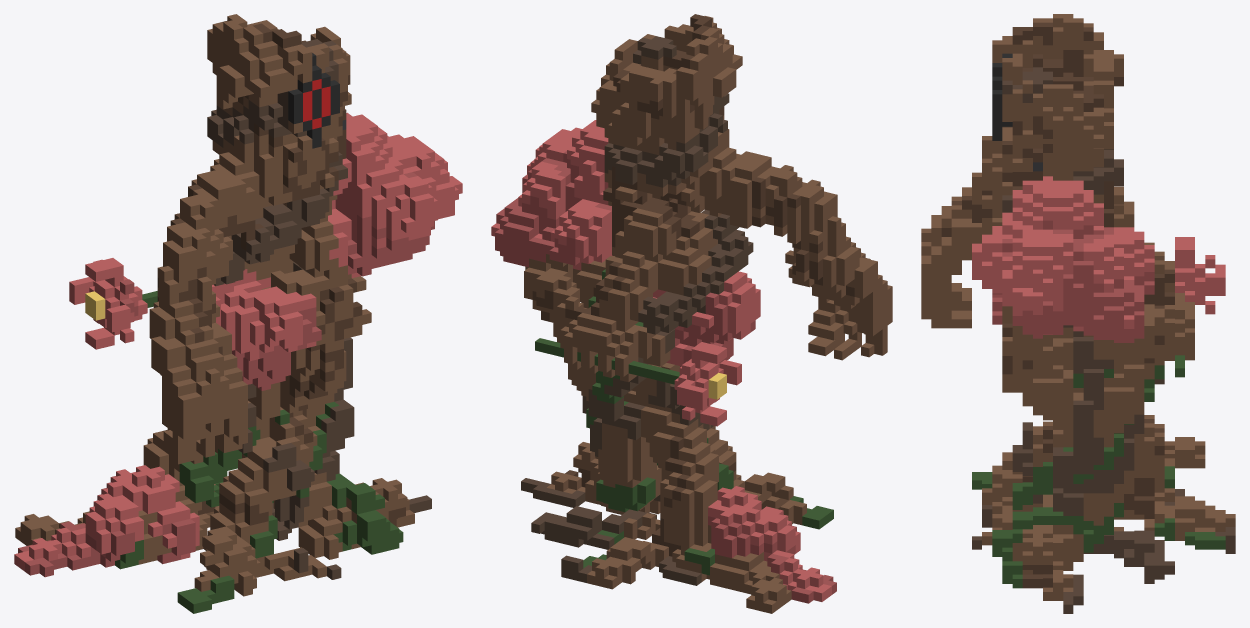
Rendered from boss-0-石头人.obj.
3 renders of one model, left to right at view 1: azimuth 30°, elevation 25°; view 2: azimuth 150°, elevation 25°; view 3: azimuth 270°, elevation 25°, orthographic. The views are drawn at different scales.
Visible parts, largest first — view 1: 石头人; view 2: 石头人; view 3: 石头人.
Boxes of the visible parts, x1=… form: 石头人: x1=14, y1=14, x2=462, y2=613; 石头人: x1=491, y1=14, x2=892, y2=613; 石头人: x1=921, y1=14, x2=1235, y2=613.
Bounding box in the file's own units: 4.1 × 5.5 × 3.1.
1 material, 1 textured.
